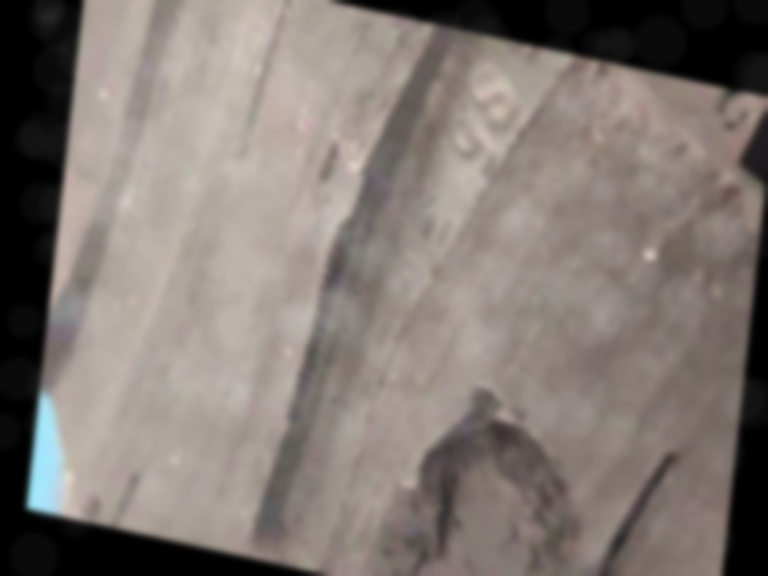temoin:0: (290, 123, 390, 253)
